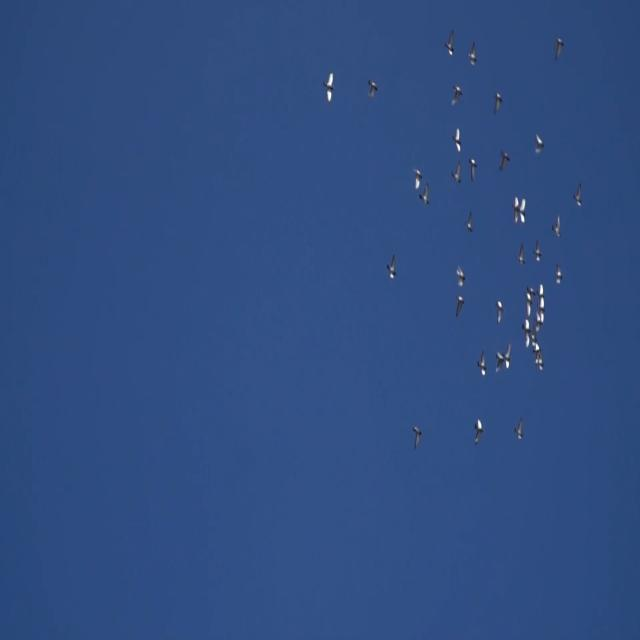bird: (531, 339, 544, 373), (471, 414, 485, 445), (465, 39, 478, 69), (384, 251, 396, 282), (418, 181, 431, 209), (454, 263, 467, 291), (444, 27, 456, 57), (497, 149, 512, 172), (512, 415, 524, 443), (324, 69, 334, 102), (452, 126, 463, 156), (531, 131, 544, 156), (502, 341, 513, 370), (520, 320, 531, 348), (551, 216, 563, 241), (510, 193, 519, 226), (572, 180, 582, 209), (454, 290, 464, 319), (365, 76, 378, 98), (475, 350, 486, 376), (516, 243, 526, 271), (492, 89, 503, 114), (533, 237, 542, 267), (451, 83, 462, 107), (468, 155, 478, 181), (412, 424, 422, 449), (537, 282, 546, 309), (451, 162, 461, 186), (552, 260, 562, 284), (493, 350, 503, 374), (465, 210, 474, 236), (534, 306, 542, 335), (553, 36, 563, 59), (494, 300, 502, 328), (519, 195, 526, 226), (412, 166, 423, 185), (525, 295, 533, 317), (526, 284, 535, 297)
